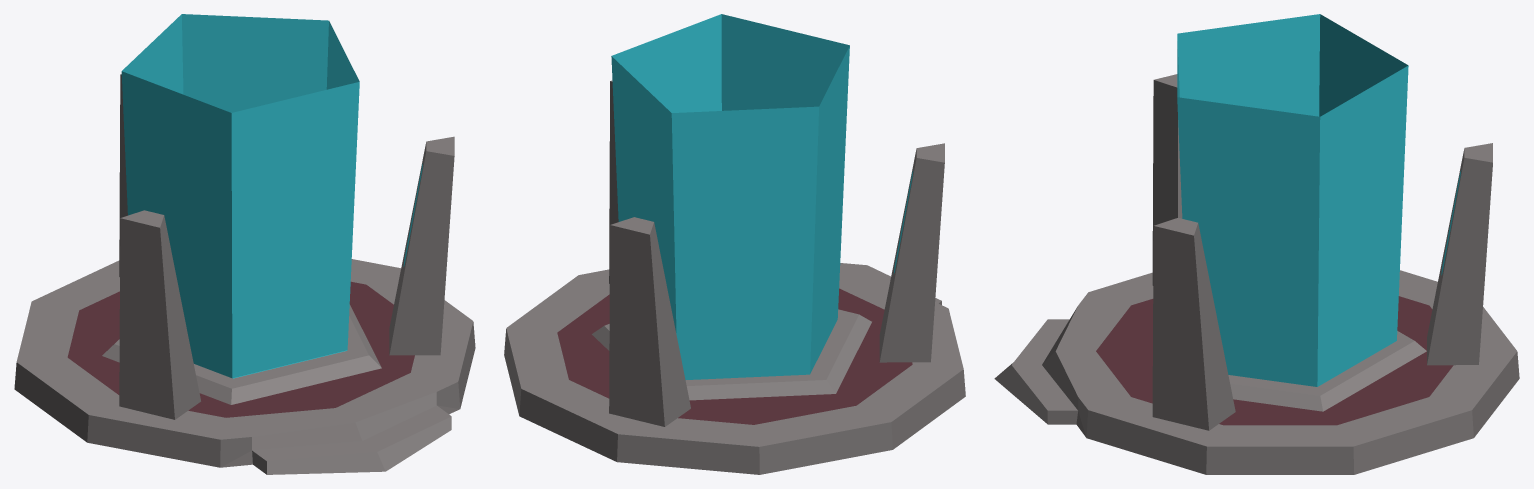
File: scifi-teleport.fbx
The picture shows the model from 3 angles, left to right: view 1: azimuth 30°, elevation 25°; view 2: azimuth 150°, elevation 25°; view 3: azimuth 270°, elevation 25°; orthographic projection.
Visible parts, largest first — view 1: scifi-teleport; view 2: scifi-teleport; view 3: scifi-teleport.
Part boxes in pixels (left/top/right/bottom): scifi-teleport: left=14, top=14, right=475, bottom=474; scifi-teleport: left=504, top=14, right=965, bottom=474; scifi-teleport: left=994, top=14, right=1519, bottom=474.
Bounding box in the file's own units: 3 × 2.27 × 3.46.
